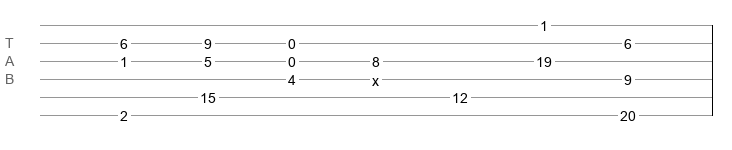0: (288, 54, 296, 64), (288, 36, 296, 46)
1: (120, 54, 128, 64), (540, 18, 548, 28)
12: (452, 90, 468, 100)
15: (200, 90, 216, 100)
19: (536, 54, 552, 64)
2: (120, 108, 128, 118)
20: (620, 108, 636, 118)
4: (288, 72, 296, 82)
5: (204, 54, 212, 64)
6: (120, 36, 128, 46), (624, 36, 632, 46)
8: (372, 54, 380, 64)
9: (204, 36, 212, 46), (624, 72, 632, 82)
x: (372, 73, 379, 81)
